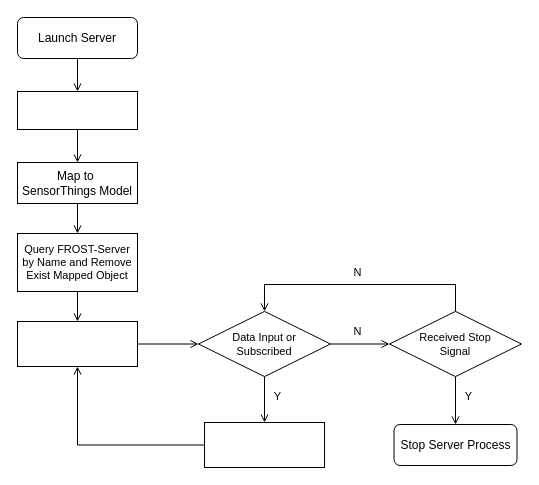
The diagram is 539 pixels wide and 485 high, and some of its shapes have lost their labels. Here are the shapes that lost their labels. From the top down, the centre of each, then its label:
[77,110]: List SWMM Object
[77,343]: Post to FROST-Server to add Data
[264,445]: Map to Observation Data
